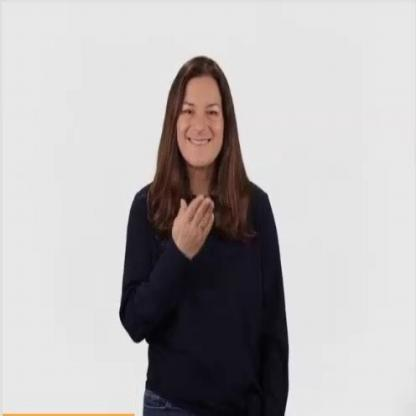ThankYou: (155, 54, 246, 274)
